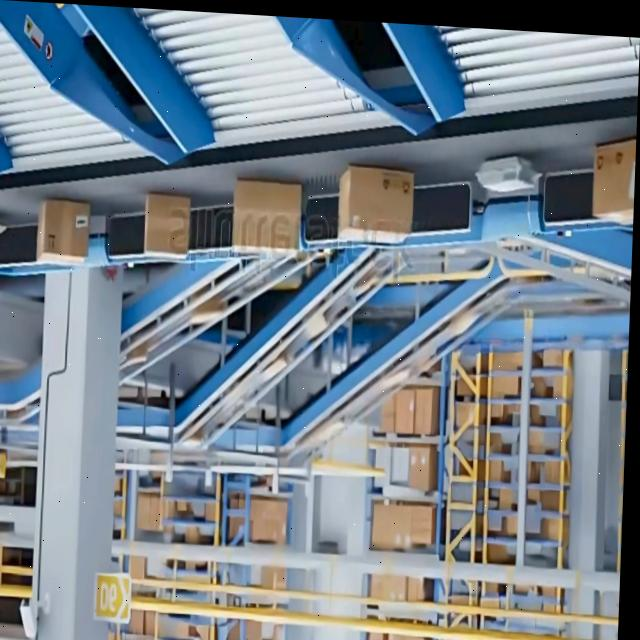product 1: (336, 164, 415, 247), (231, 179, 302, 257), (35, 198, 91, 268), (143, 193, 191, 260)
